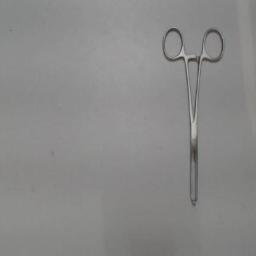Allis Tissue Forceps: (156, 22, 228, 212)
